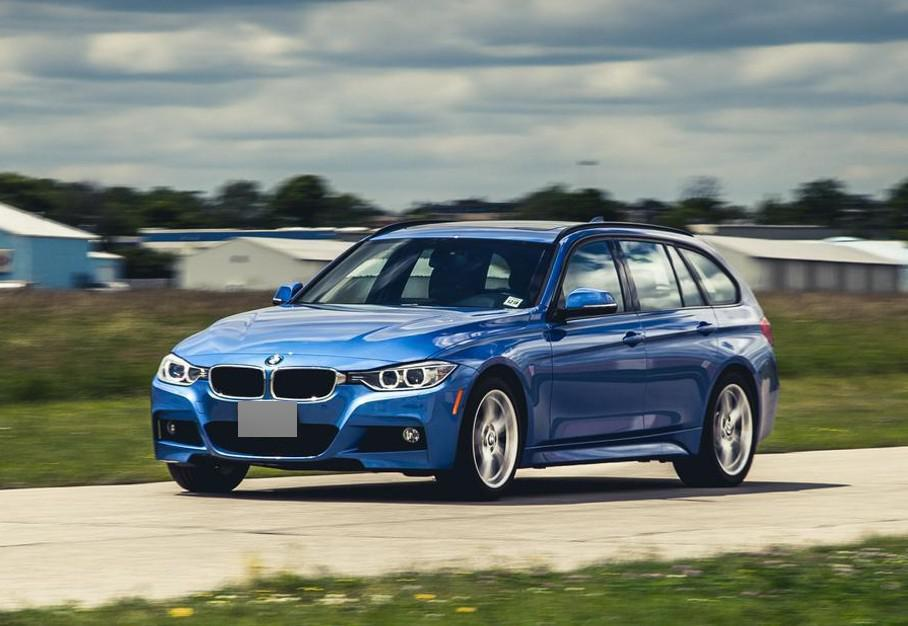Wagon: (152, 221, 775, 503)
